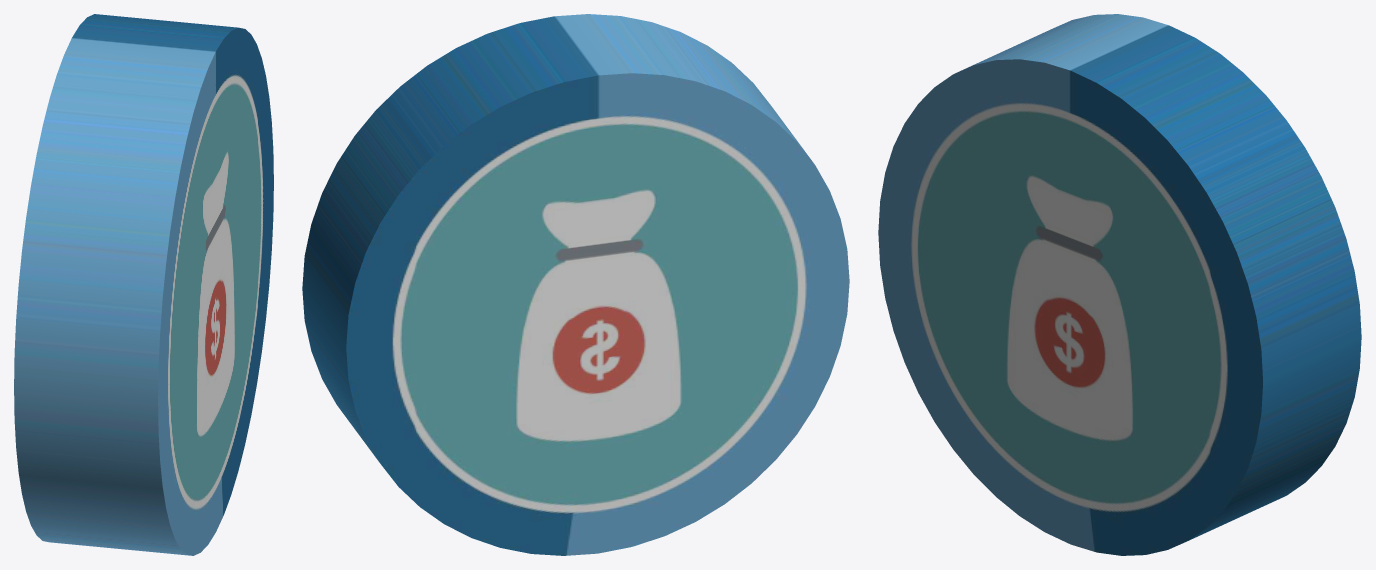
File: HSBC Entorno_10_CAPAS_Cluster Finanzas.fbx
3 renders of one model, left to right at view 1: azimuth 30°, elevation 25°; view 2: azimuth 150°, elevation 25°; view 3: azimuth 270°, elevation 25°, orthographic.
Parts seen in each view (by area): view 1: cilindro bolsa.001; view 2: cilindro bolsa.001; view 3: cilindro bolsa.001.
Part boxes in pixels (left/top/right/bottom): cilindro bolsa.001: left=14, top=14, right=273, bottom=555; cilindro bolsa.001: left=302, top=14, right=849, bottom=555; cilindro bolsa.001: left=878, top=14, right=1361, bottom=555.
Size of the model in its own units: 314 by 356 by 329.
